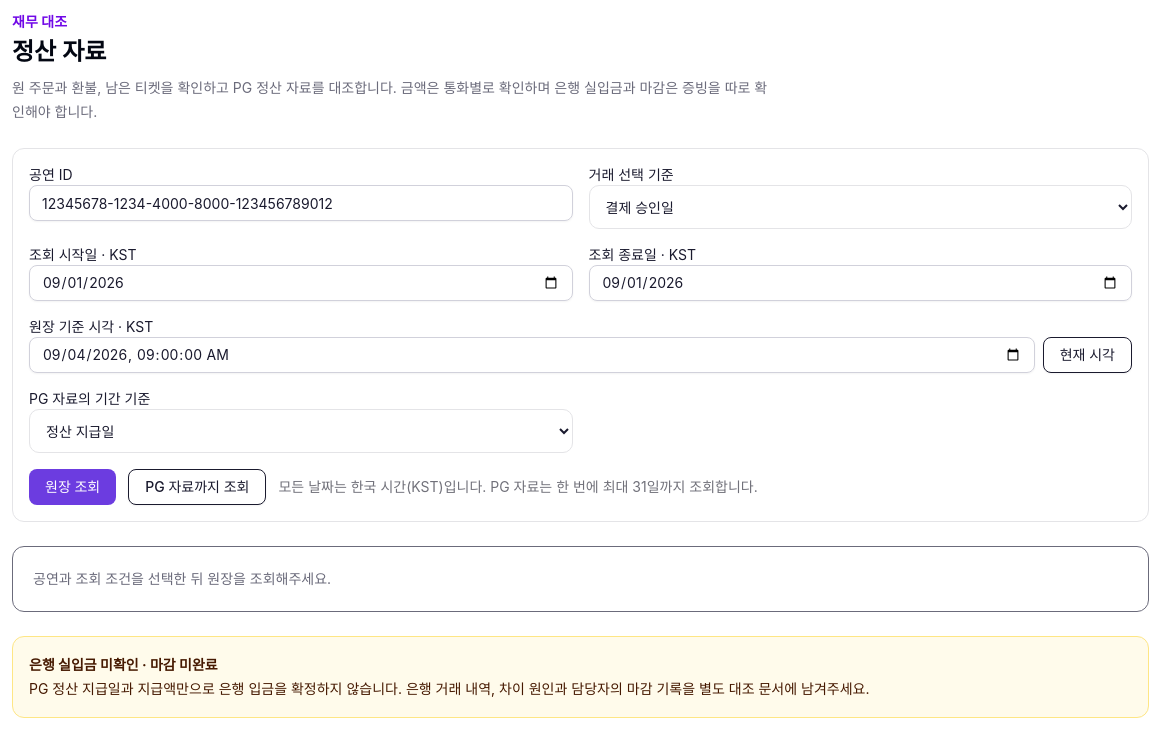
Test: Finance ledger dashboard › marks an offline request as waiting and does not enable exports or show stale amounts
The width and height of the screenshot is (1164, 732).
Click the button "원장 조회": (73, 487) [29,469,116,505]
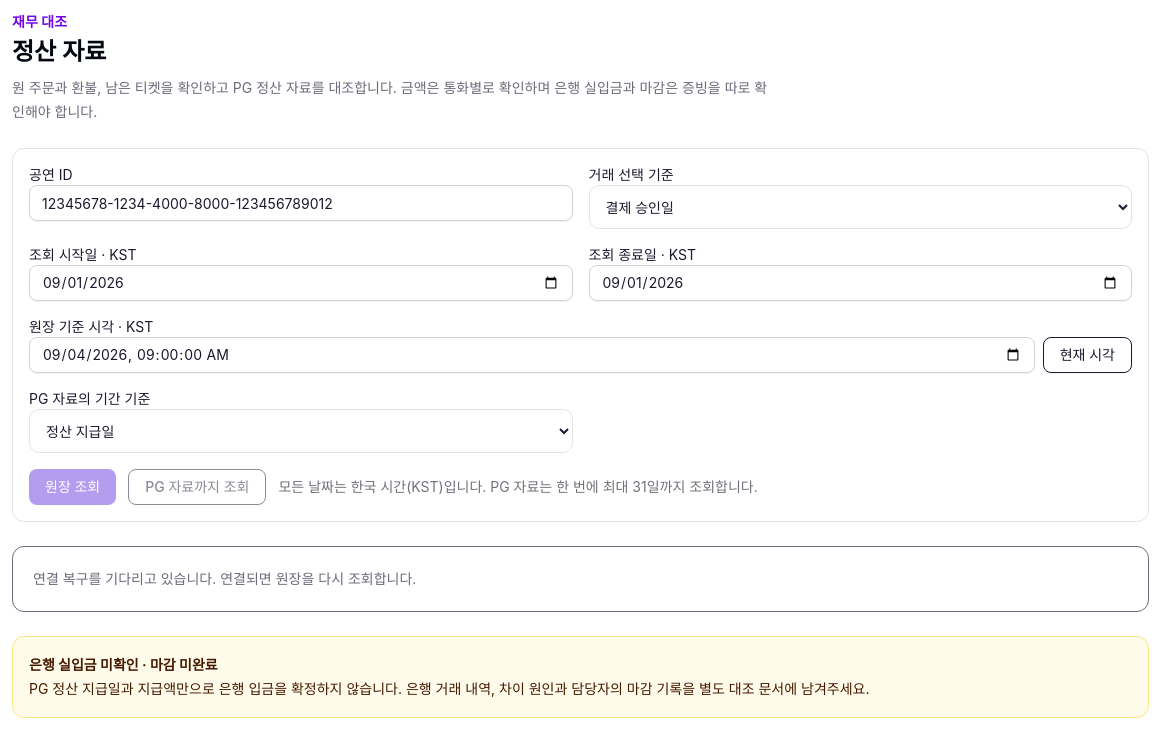
Expected: the text "연결 복구를 기다리고 있습니다. 연결되면 원장을 다시 조회합니다." is shown, [12,546,1149,612]
